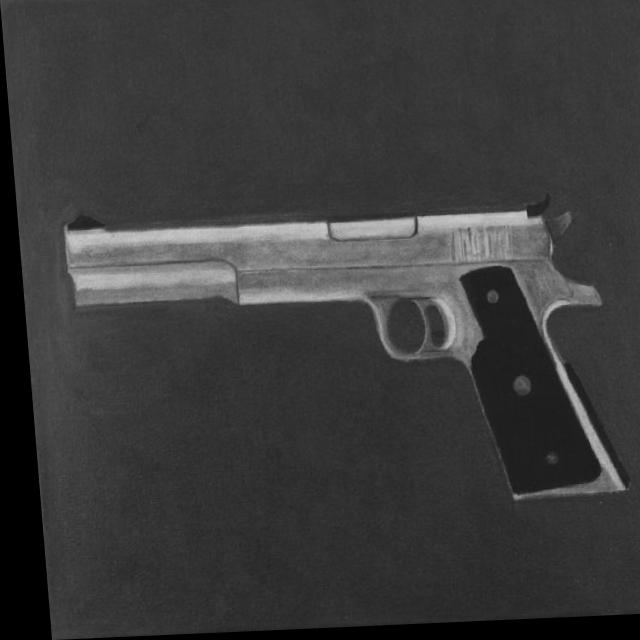handgun: (56, 194, 622, 525)
